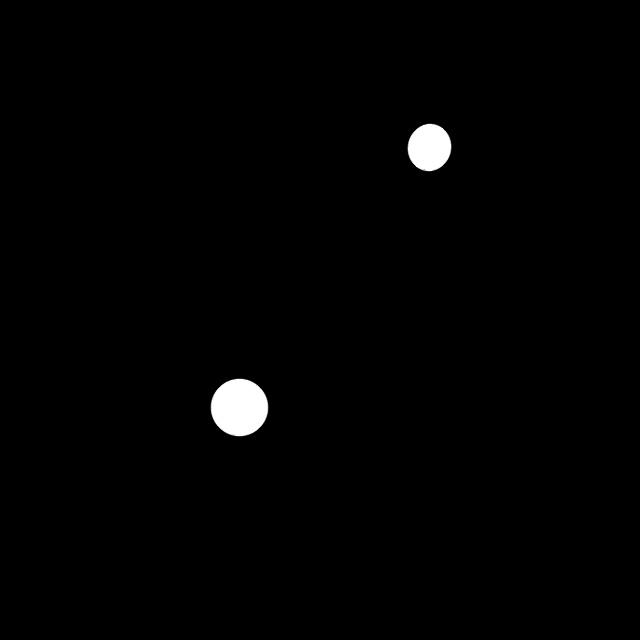Circle: (204, 370, 275, 446), (398, 114, 459, 182)
